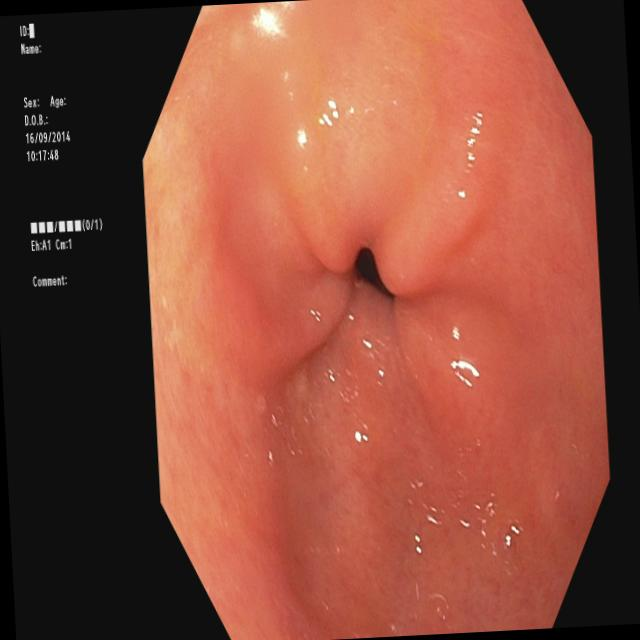normal-pylorus: (220, 27, 538, 615)
